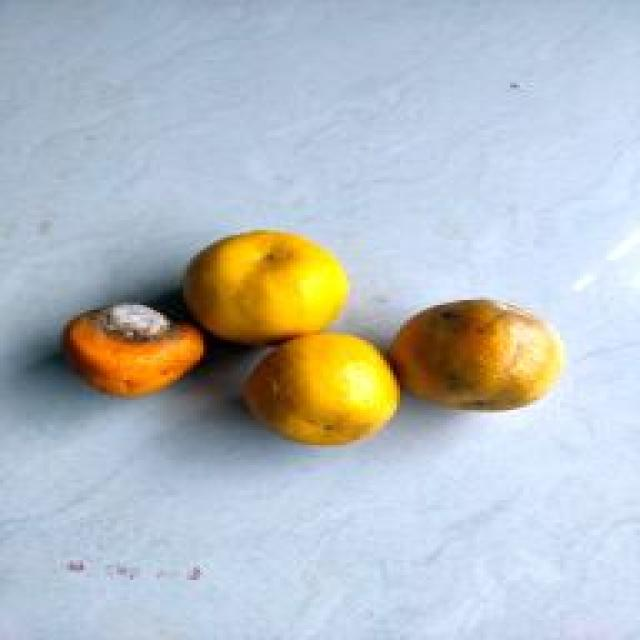Organik: (165, 218, 361, 342), (393, 285, 561, 422), (223, 334, 423, 446), (51, 294, 215, 409)
